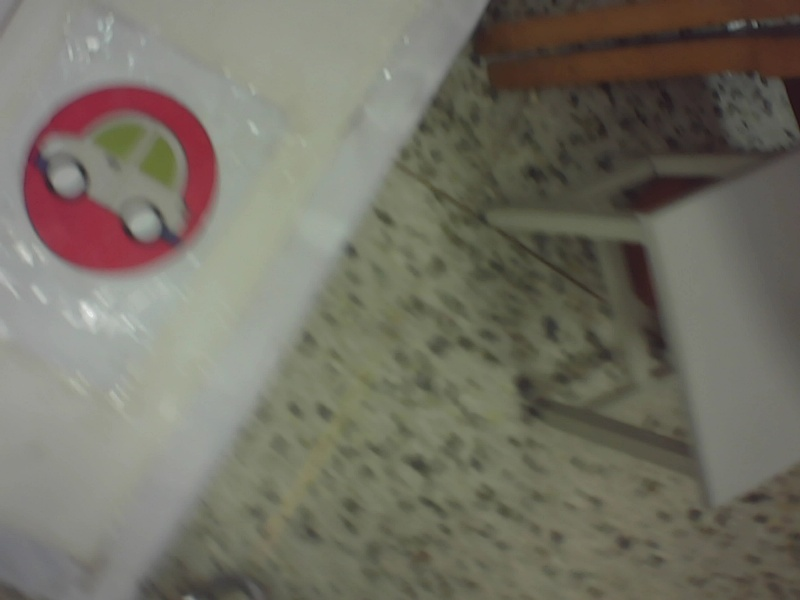areaC: (14, 69, 222, 288)
